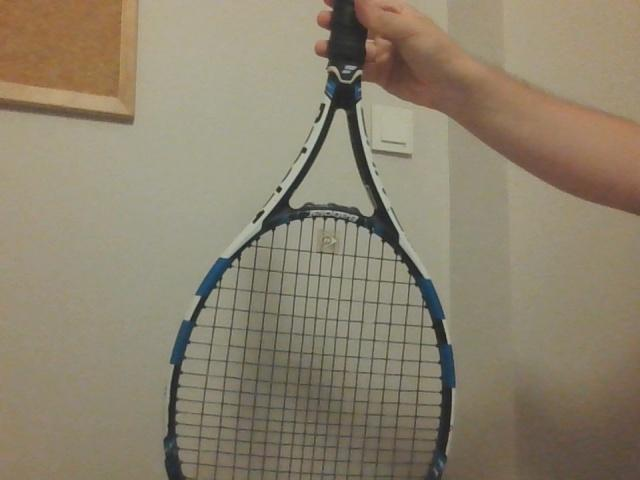Tennis-Racket: (166, 0, 447, 480)
